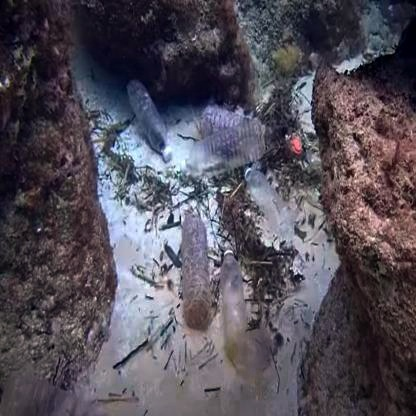pbottle: (249, 157, 310, 273), (219, 248, 261, 388), (187, 113, 275, 178), (176, 196, 214, 342), (128, 86, 175, 172)
